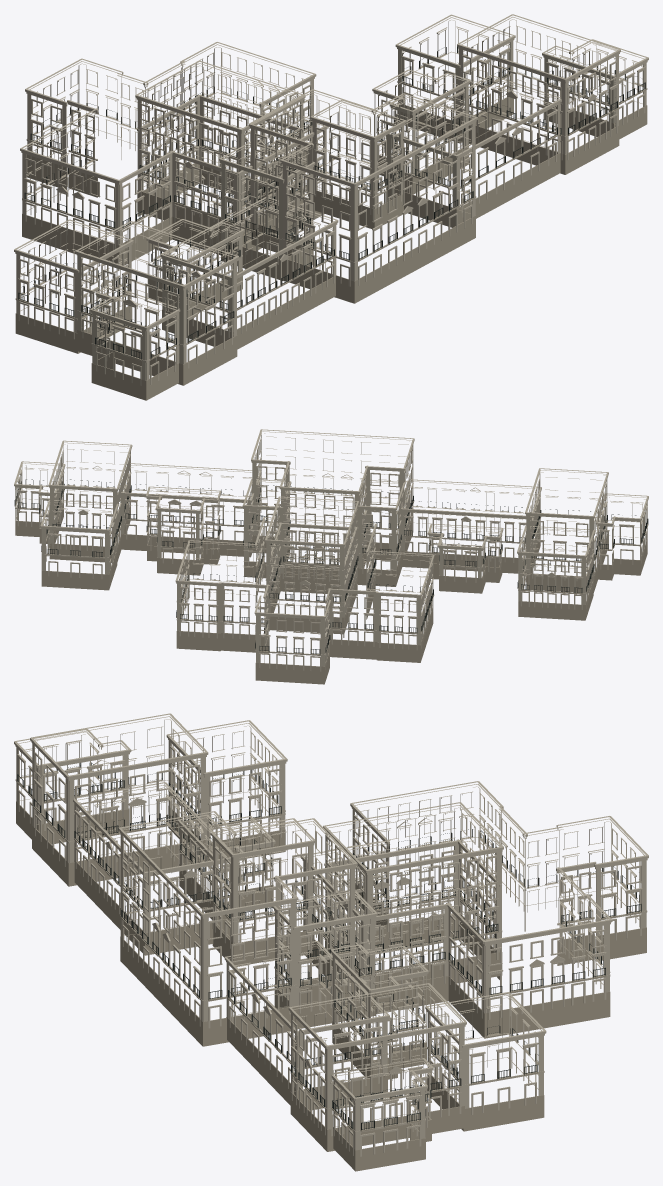
3 views of the same model, one above another, from view 1: azimuth 30°, elevation 25°; view 2: azimuth 150°, elevation 25°; view 3: azimuth 270°, elevation 25° (orthographic). The views are drawn at different scales.
Parts seen in each view (by area): view 1: detail; view 2: detail; view 3: detail.
Boxes of the visible parts, x1,y1,x2,y2 form: detail: [14, 14, 648, 400]; detail: [14, 429, 648, 684]; detail: [14, 713, 648, 1171].
Size of the model in its own units: 100 by 18.2 by 73.07.
